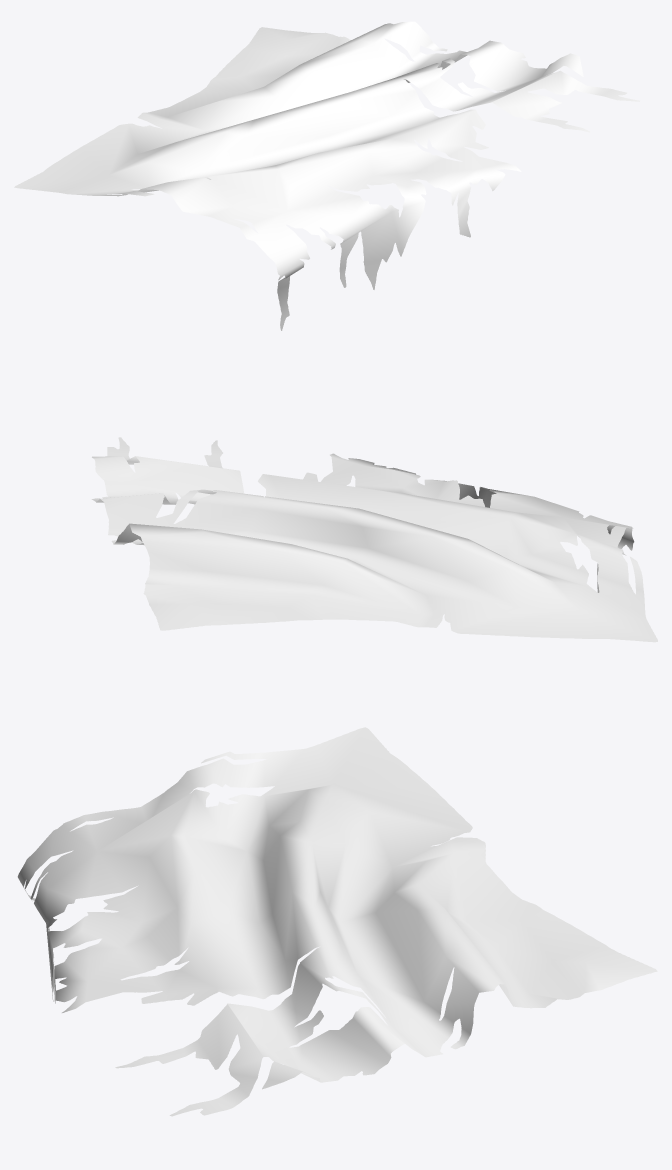
File: SM_Prop_Cover_02.fbx
3 renders of one model, top to bottom at view 1: azimuth 30°, elevation 25°; view 2: azimuth 150°, elevation 25°; view 3: azimuth 270°, elevation 25°, orthographic. The views are drawn at different scales.
Visible parts, largest first — view 1: SM_Prop_Cover_02; view 2: SM_Prop_Cover_02; view 3: SM_Prop_Cover_02.
Boxes of the visible parts, left/top/right/bottom form: SM_Prop_Cover_02: left=14, top=21, right=639, bottom=330; SM_Prop_Cover_02: left=91, top=437, right=657, bottom=642; SM_Prop_Cover_02: left=17, top=727, right=657, bottom=1116.
Size of the model in its own units: 588 by 181 by 373.
